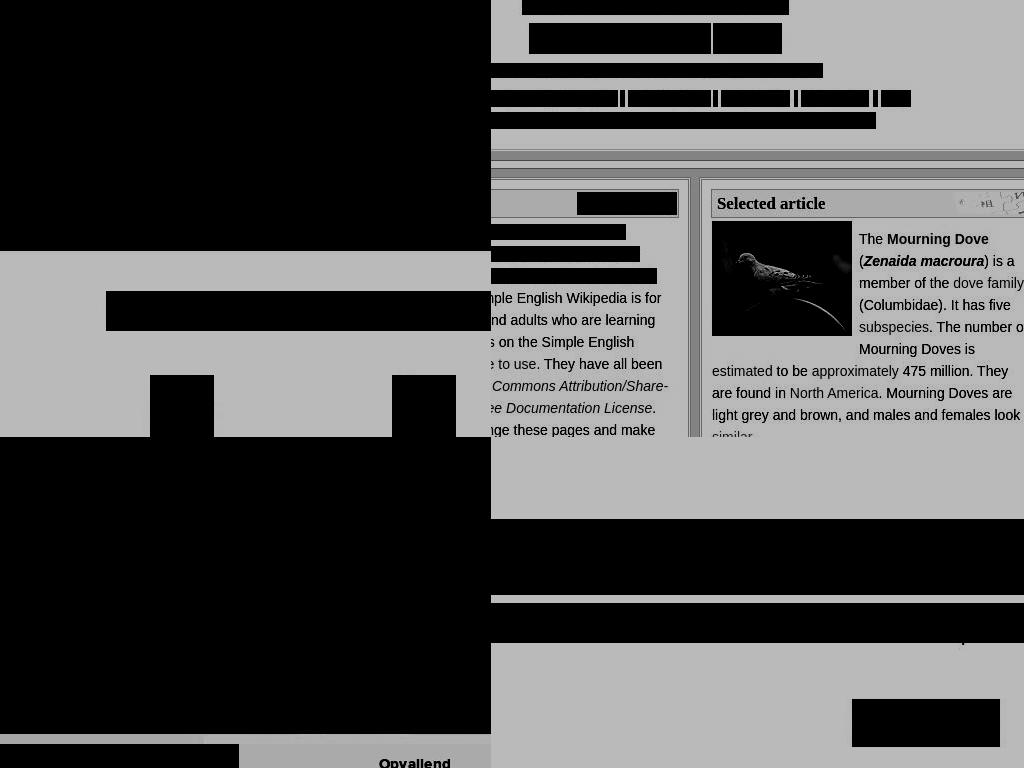button: (0, 437, 491, 724), (852, 699, 1000, 747), (150, 375, 214, 437), (392, 375, 456, 437)
field: (529, 23, 711, 54), (713, 23, 782, 54)
heading: (491, 519, 1024, 595), (316, 291, 491, 331), (183, 291, 317, 331), (106, 291, 184, 331), (717, 193, 826, 213)
image: (0, 437, 491, 734), (712, 221, 852, 336), (430, 0, 491, 186), (150, 375, 214, 437), (392, 375, 456, 437), (577, 192, 677, 215), (932, 192, 1024, 215)
link: (491, 378, 668, 416), (491, 400, 653, 416), (491, 90, 618, 107), (680, 63, 823, 78), (491, 224, 621, 240), (678, 0, 789, 15), (887, 231, 990, 247), (563, 268, 657, 284), (789, 385, 879, 401), (628, 90, 711, 107), (811, 363, 899, 379), (570, 0, 651, 15), (0, 621, 79, 636), (721, 90, 790, 107), (801, 90, 869, 107), (859, 319, 929, 335), (712, 363, 773, 379), (491, 112, 546, 129), (0, 445, 62, 460), (0, 665, 60, 680), (0, 489, 57, 504), (0, 709, 55, 724), (491, 356, 537, 372), (553, 63, 599, 78), (987, 275, 1024, 291), (0, 533, 37, 548), (0, 577, 36, 592), (953, 275, 985, 291), (881, 90, 911, 107), (0, 753, 26, 768), (712, 429, 752, 437)
text: (0, 440, 491, 728), (0, 35, 291, 131), (491, 603, 1024, 643), (491, 290, 661, 372), (712, 385, 1020, 423), (712, 363, 1008, 401), (491, 356, 663, 394), (859, 319, 1024, 357), (239, 744, 491, 768), (859, 253, 1015, 291), (0, 744, 239, 768), (545, 112, 876, 129), (859, 297, 1011, 313), (491, 246, 640, 262), (863, 253, 984, 269), (599, 63, 681, 78), (491, 268, 563, 284), (491, 63, 555, 78), (772, 363, 812, 379), (859, 231, 887, 247), (650, 0, 679, 15), (543, 0, 570, 15), (522, 0, 544, 15), (620, 90, 625, 107), (713, 90, 718, 107), (873, 90, 878, 107), (621, 224, 626, 240), (652, 400, 657, 416), (859, 253, 864, 269), (794, 90, 798, 107), (751, 429, 756, 437)
